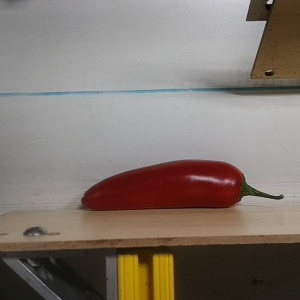Cut Point: (226, 164, 254, 208)
